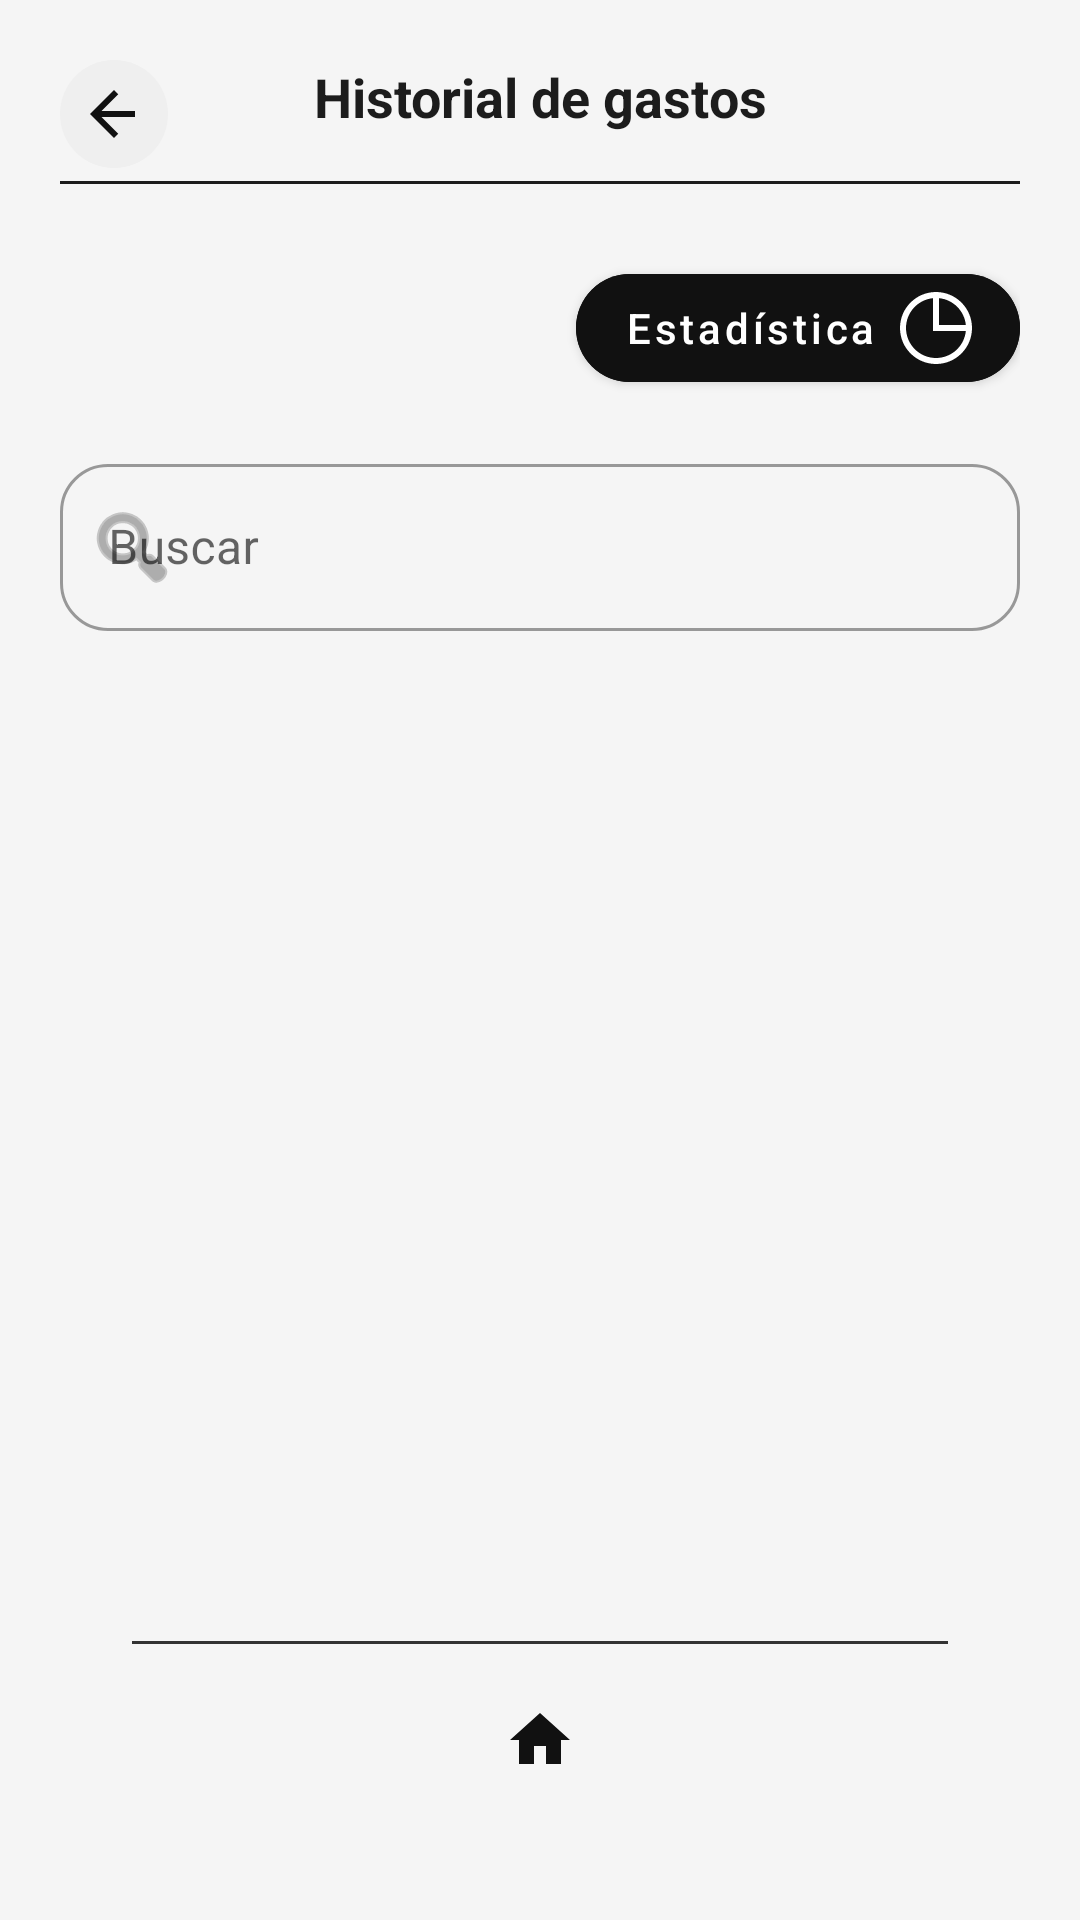

Screen size 1080w x 1920h. Icon name, then its center in pixels as point (x, y):
back: point (112, 114)
home: point (540, 1738)
